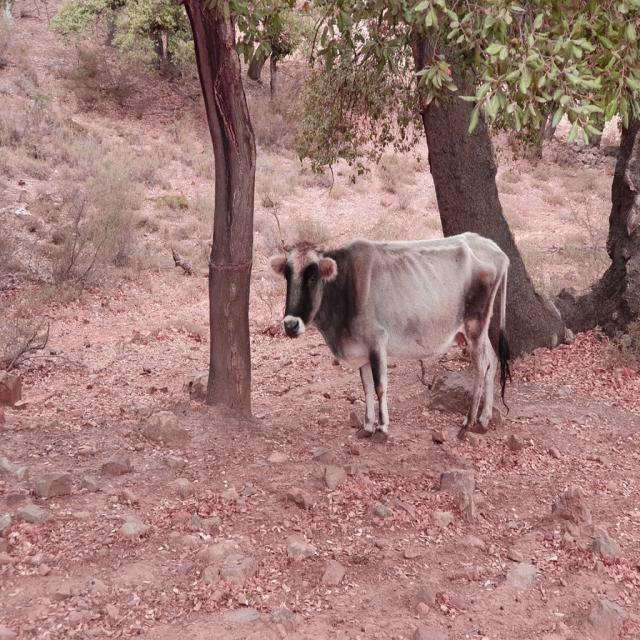cow: (272, 232, 510, 438)
